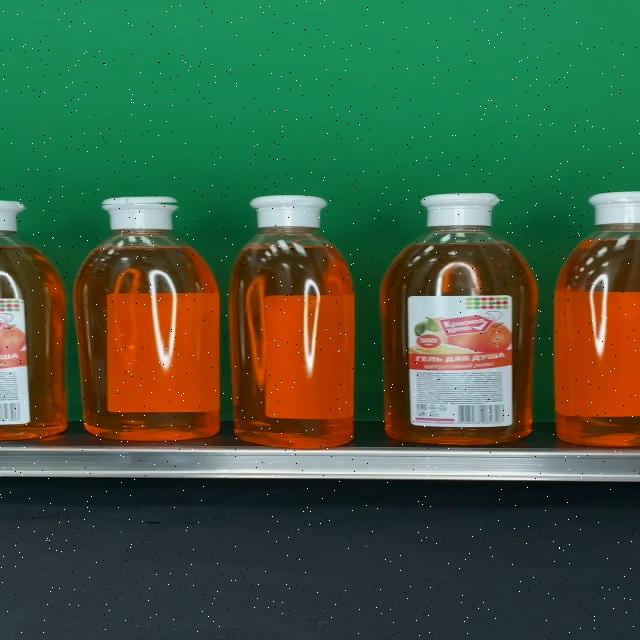Bottle: (382, 192, 538, 445), (74, 195, 221, 440), (228, 194, 355, 448)
Cap: (418, 192, 501, 225), (101, 196, 178, 230), (249, 195, 327, 228)
